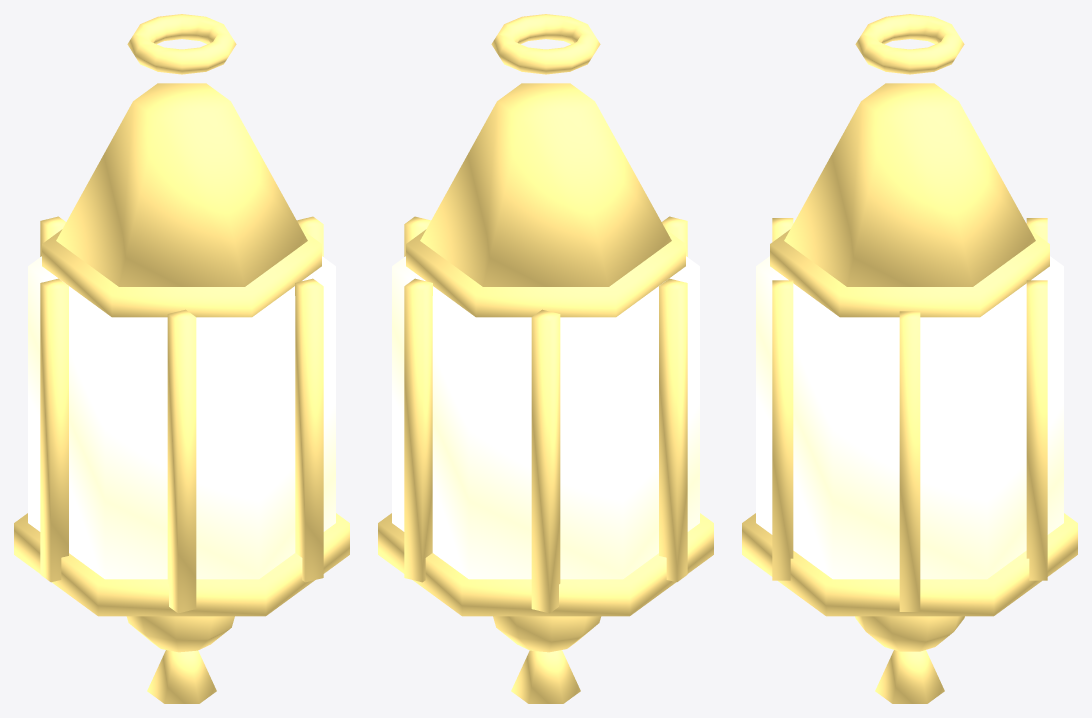
File: lantern.glb
3 views of the same model, side by side, from view 1: azimuth 30°, elevation 25°; view 2: azimuth 150°, elevation 25°; view 3: azimuth 270°, elevation 25° (orthographic).
Visible parts, largest first — view 1: glassbody; view 2: glassbody; view 3: glassbody.
Part boxes in pixels (x1=…): glassbody: x1=14, y1=14, x2=349, y2=703; glassbody: x1=378, y1=14, x2=713, y2=703; glassbody: x1=742, y1=14, x2=1077, y2=703.
Bounding box in the file's own units: 0.45 × 1.04 × 0.48.
